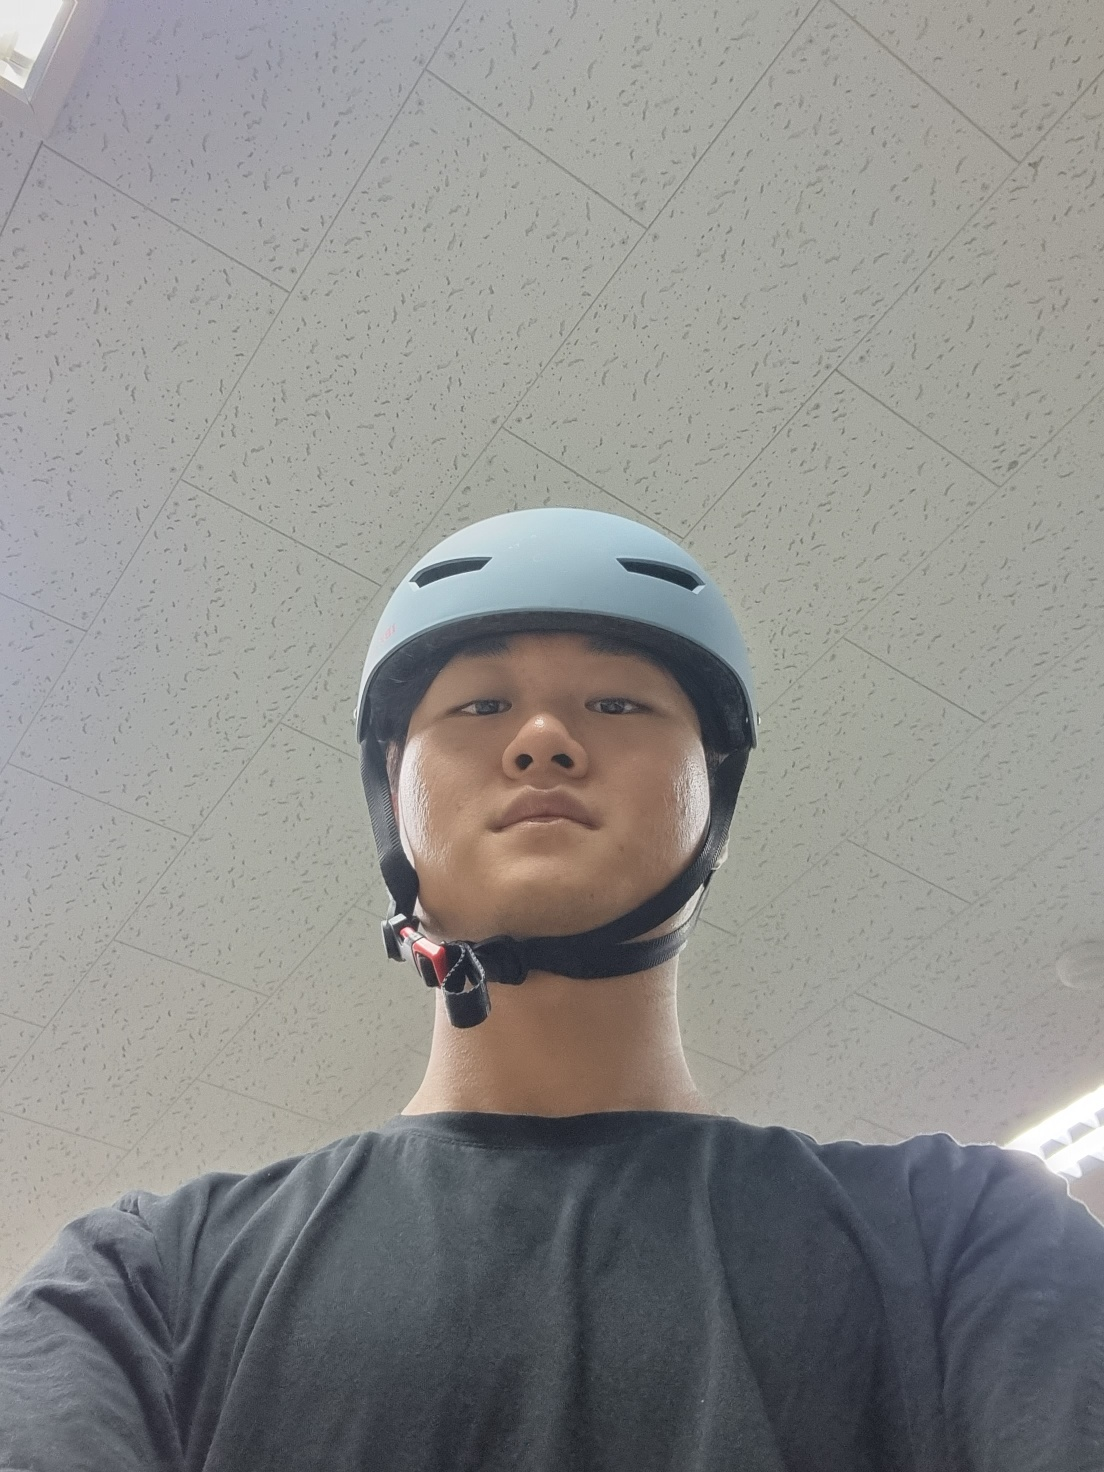Helmet: (319, 480, 807, 1030)
